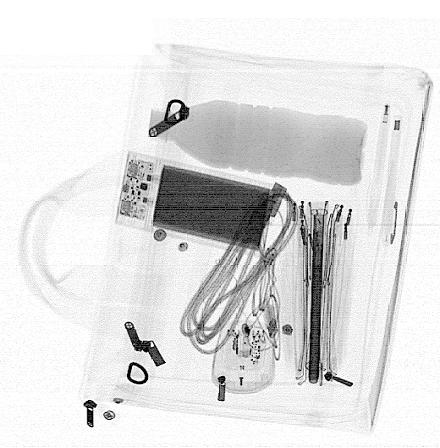Powerbank: (114, 151, 276, 257)
